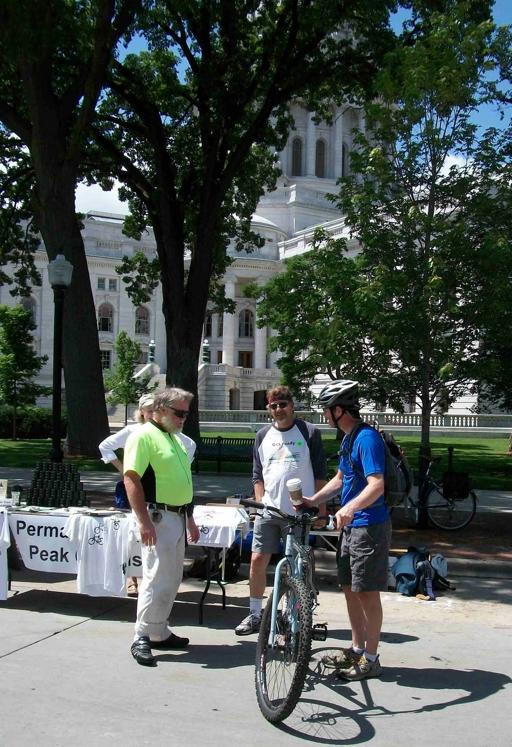non-vehicle: (233, 499, 348, 727), (385, 453, 480, 532)
